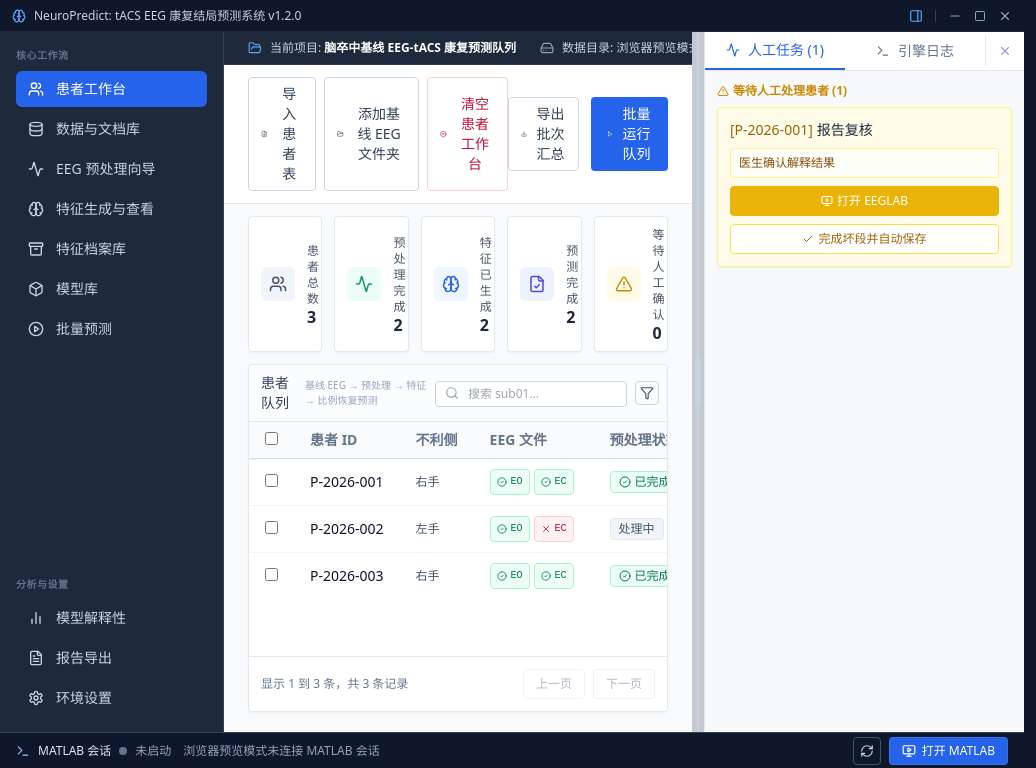
model interpretation backend integration › keeps patient contribution rows limited to EEG PSD and WPLI features
Click the button "模型解释性" at (112, 618), box [16,600,207,636]
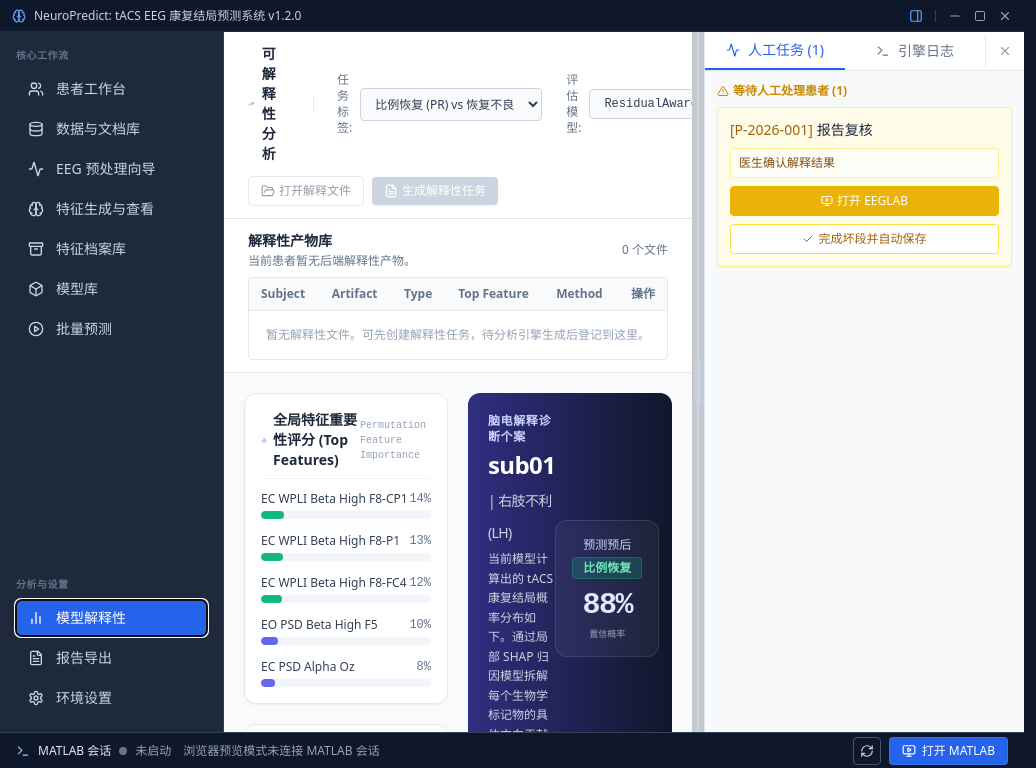
Result: the text "EC WPLI Beta High F8-CP1" is shown at [261,491,408,507]
